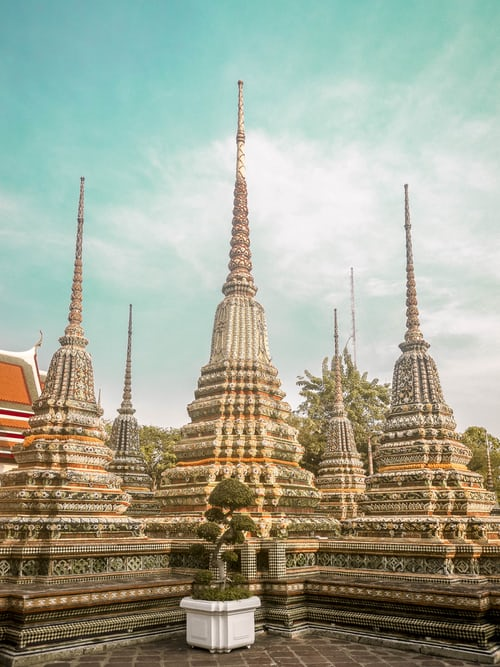Temple: (167, 54, 312, 561), (15, 176, 154, 593), (354, 186, 485, 608)
